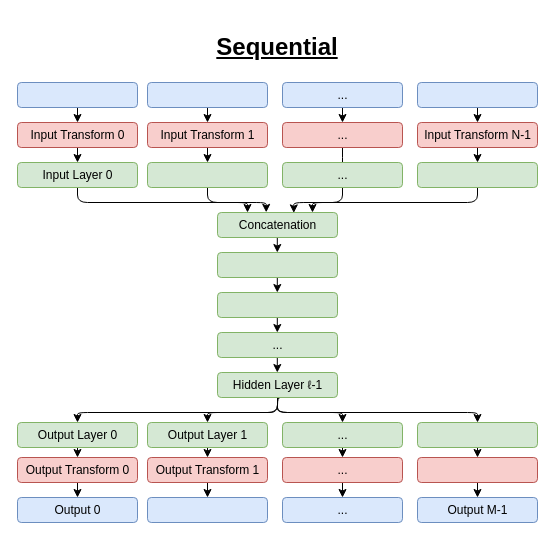
Image size: 555x540. Some labels were removed from this diagram. The shapes that lost their labels are listed below. From the top down, each one's box as (x1, y1, x2, y2) in pixels, then its label:
(16, 82, 138, 108): Input 0
(146, 82, 268, 108): Input 1
(416, 82, 538, 108): Input N-1
(146, 162, 268, 188): Input Layer 1
(416, 162, 538, 188): Input Layer N-1
(216, 252, 338, 278): Hidden Layer 0
(216, 292, 338, 318): Hidden Layer 1
(416, 422, 538, 448): Output Layer M-1
(416, 456, 538, 482): Output Transform M-1
(146, 496, 268, 522): Output 1
